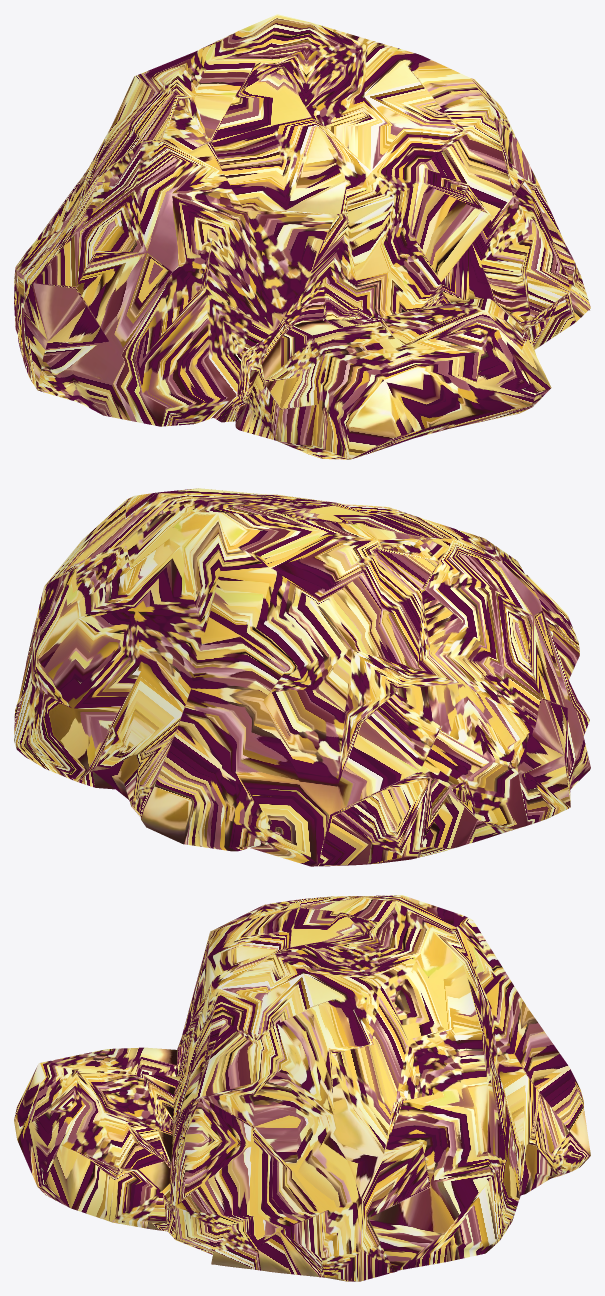
File: gold_bar.glb
The picture shows the model from 3 angles, top to bottom: view 1: azimuth 30°, elevation 25°; view 2: azimuth 150°, elevation 25°; view 3: azimuth 270°, elevation 25°; orthographic projection. The views are drawn at different scales.
Visible parts, largest first — view 1: Mesh_0; view 2: Mesh_0; view 3: Mesh_0.
Part boxes in pixels (<box>): Mesh_0: <box>14,14,590,459</box>; Mesh_0: <box>14,488,590,866</box>; Mesh_0: <box>14,895,590,1281</box>.
Size of the model in its own units: 1.85 by 0.8986 by 1.87.
1 material, 1 textured.
